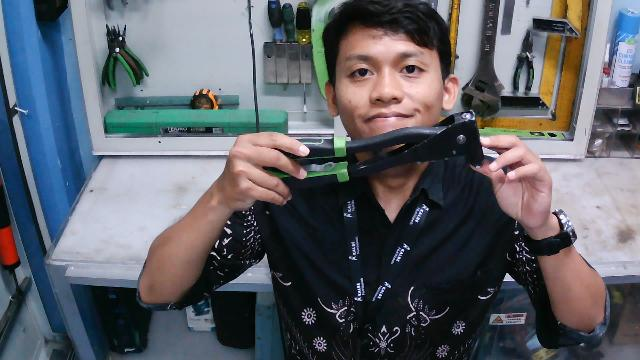tang_rivet: (253, 108, 481, 191)
